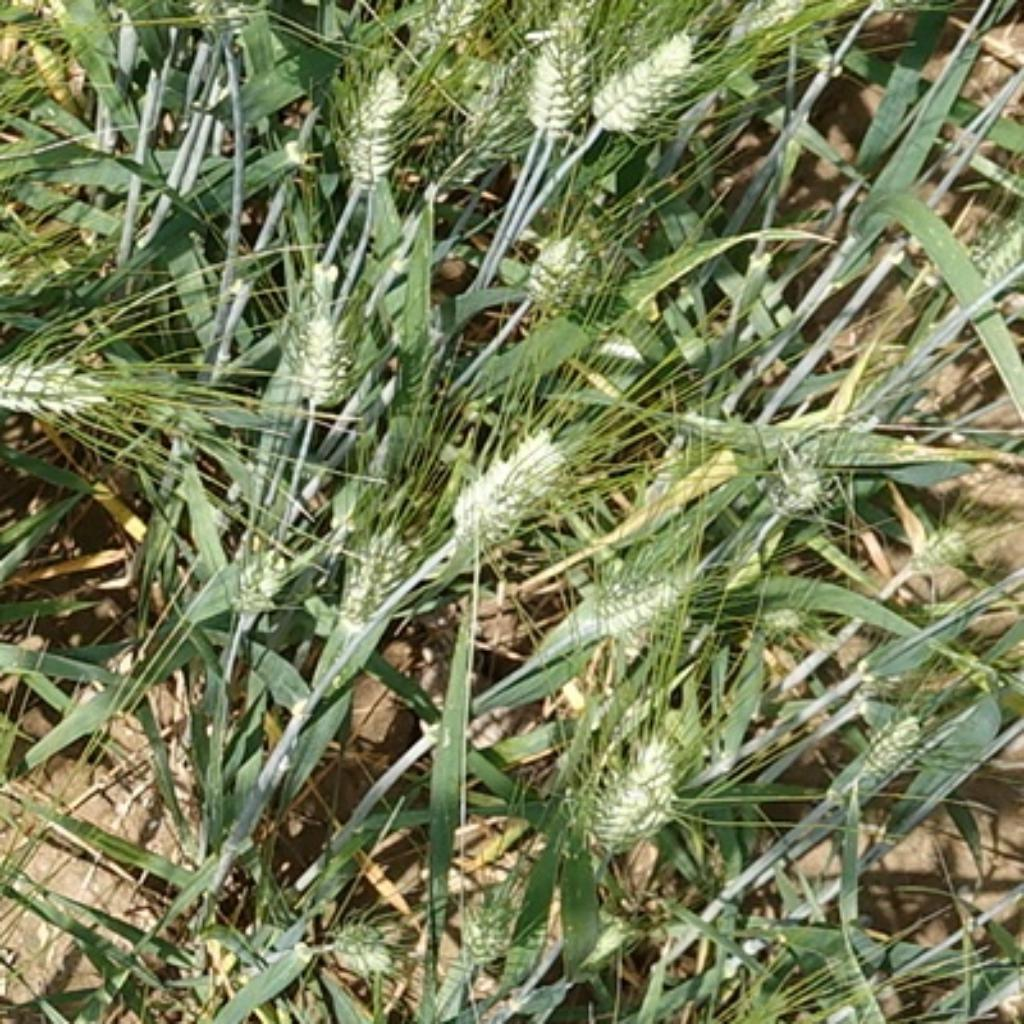0-0: (560, 706, 698, 855), (437, 414, 583, 550), (555, 524, 701, 640), (586, 17, 709, 133), (266, 271, 366, 407), (322, 46, 412, 192), (330, 504, 427, 627), (834, 691, 939, 801), (453, 38, 529, 174), (514, 15, 593, 133), (0, 345, 115, 422), (448, 857, 529, 965), (207, 541, 305, 628), (514, 217, 604, 304), (760, 446, 844, 526), (322, 906, 403, 979), (898, 506, 980, 576), (970, 215, 1024, 309), (720, 0, 816, 52), (410, 0, 489, 50), (189, 0, 248, 55)
